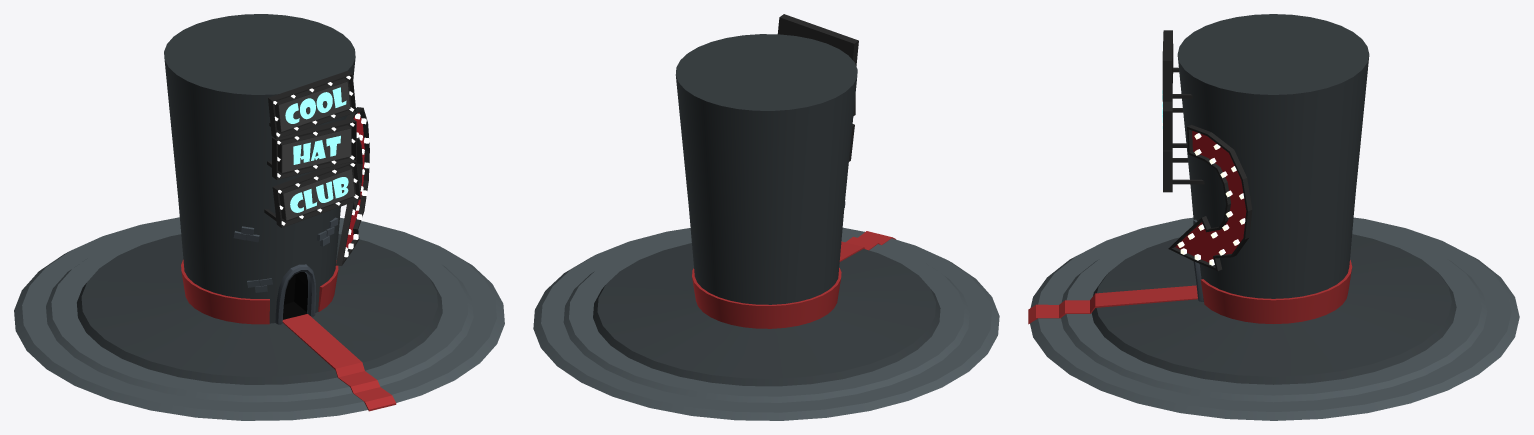
Rendered from Cool Hat Club.fbx.
The picture shows the model from 3 angles, left to right: view 1: azimuth 30°, elevation 25°; view 2: azimuth 150°, elevation 25°; view 3: azimuth 270°, elevation 25°; orthographic projection. The views are drawn at different scales.
Visible parts, largest first — view 1: Circle.009; view 2: Circle.009; view 3: Circle.009.
Part boxes in pixels (<box>): Circle.009: <box>14,14,504,420</box>; Circle.009: <box>533,14,999,420</box>; Circle.009: <box>1028,14,1519,420</box>.
Size of the model in its own units: 6212 by 3840 by 6213.
